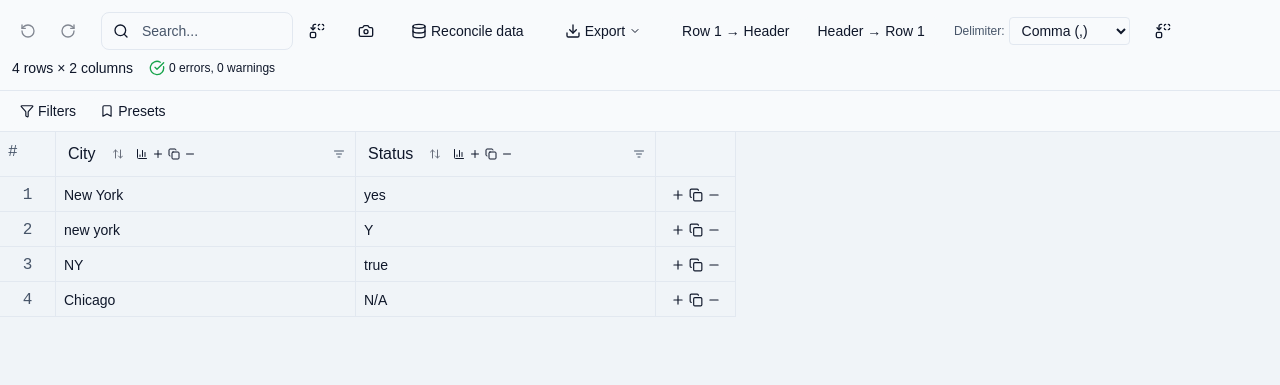
Test: CSV Find & Replace › toggles the replace bar from the toolbar
Click the button with test id "toggle-replace". click: (317, 31)
box: top-left (301, 15), bottom-right (333, 47)
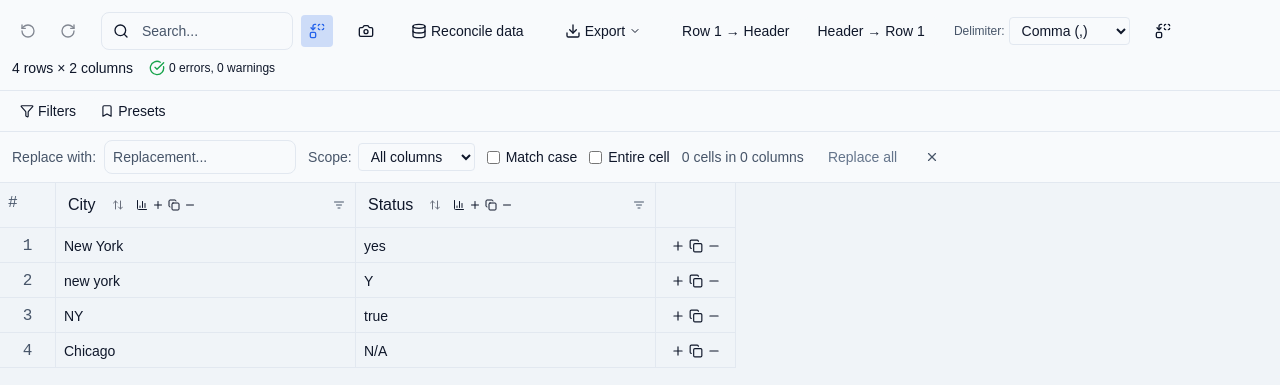
Check: the element with test id "find-replace-bar" is shown, box top-left (0, 132), bottom-right (1279, 183)
Click the button with test id "replace-close". click: (932, 157)
box: top-left (921, 146), bottom-right (943, 168)
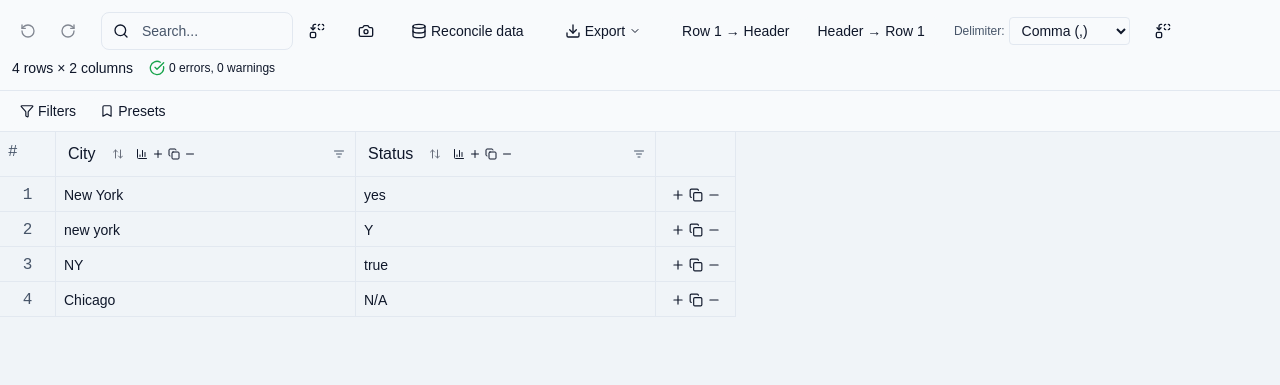
Check: the element with test id "find-replace-bar" is gone
